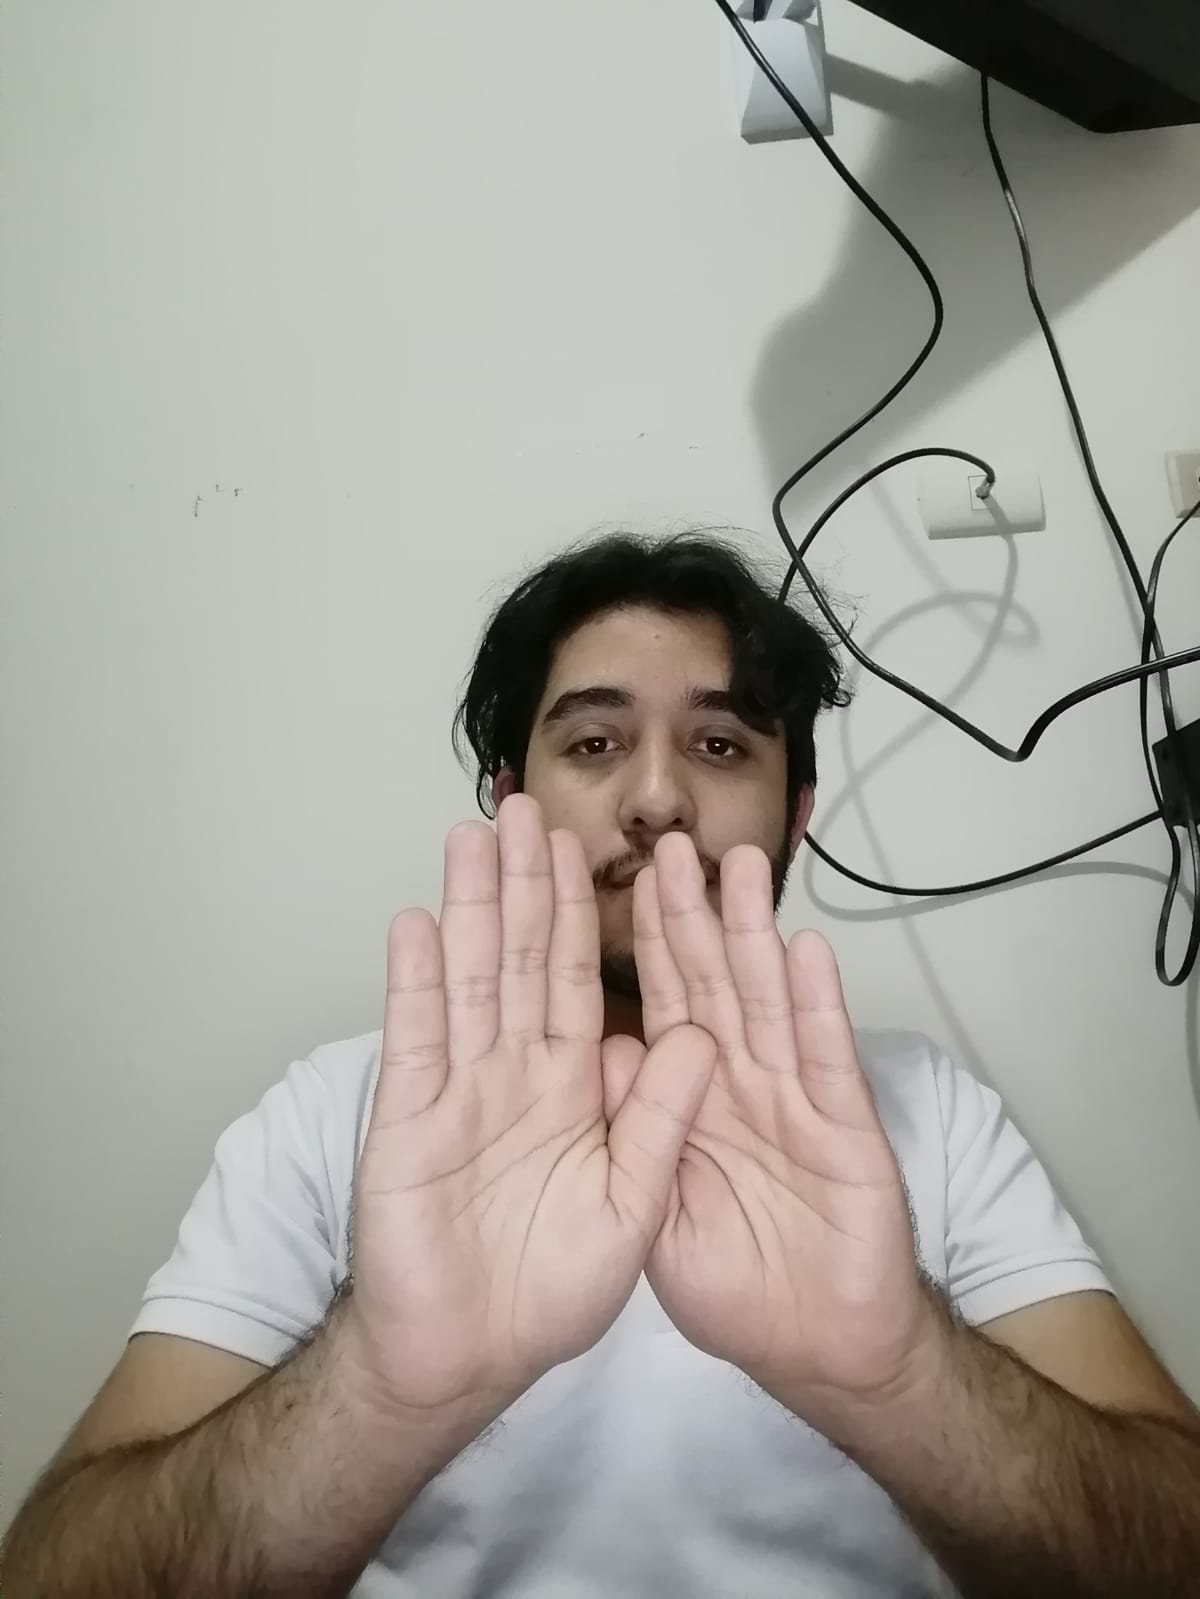Door: (335, 791, 923, 1394)
